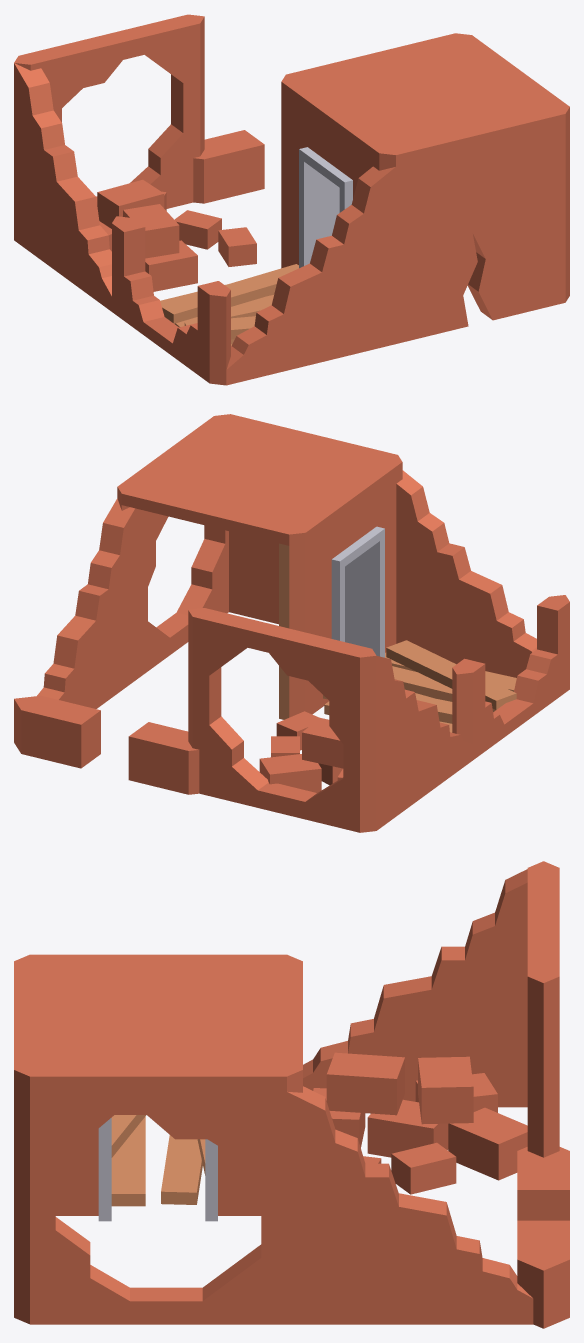
The model's file is Casa13SemiRota.FBX.
3 views of the same model, one above another, from view 1: azimuth 30°, elevation 25°; view 2: azimuth 150°, elevation 25°; view 3: azimuth 270°, elevation 25° (orthographic). The views are drawn at different scales.
Parts seen in each view (by area): view 1: wall_straightHole_284; view 2: wall_straightHole_284; view 3: wall_straightHole_284.
Boxes of the visible parts, box(x1,y1,x2,y2) form: wall_straightHole_284: box(14, 14, 569, 385); wall_straightHole_284: box(14, 414, 569, 832); wall_straightHole_284: box(14, 861, 569, 1328).
Size of the model in its own units: 2165 by 1065 by 2165.
